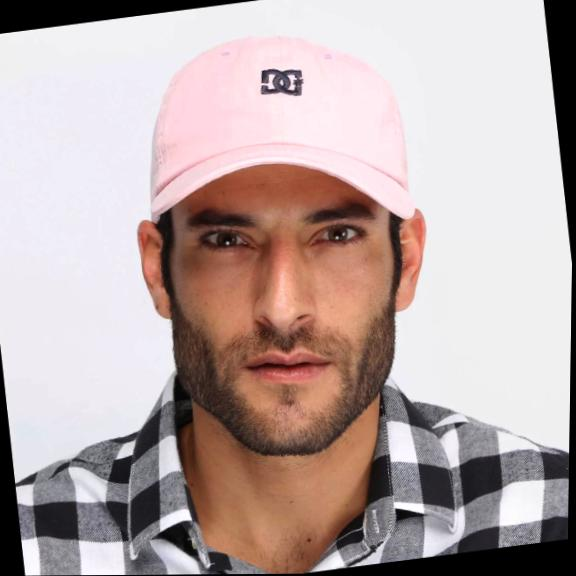no_safety_vest: (3, 328, 571, 576)
